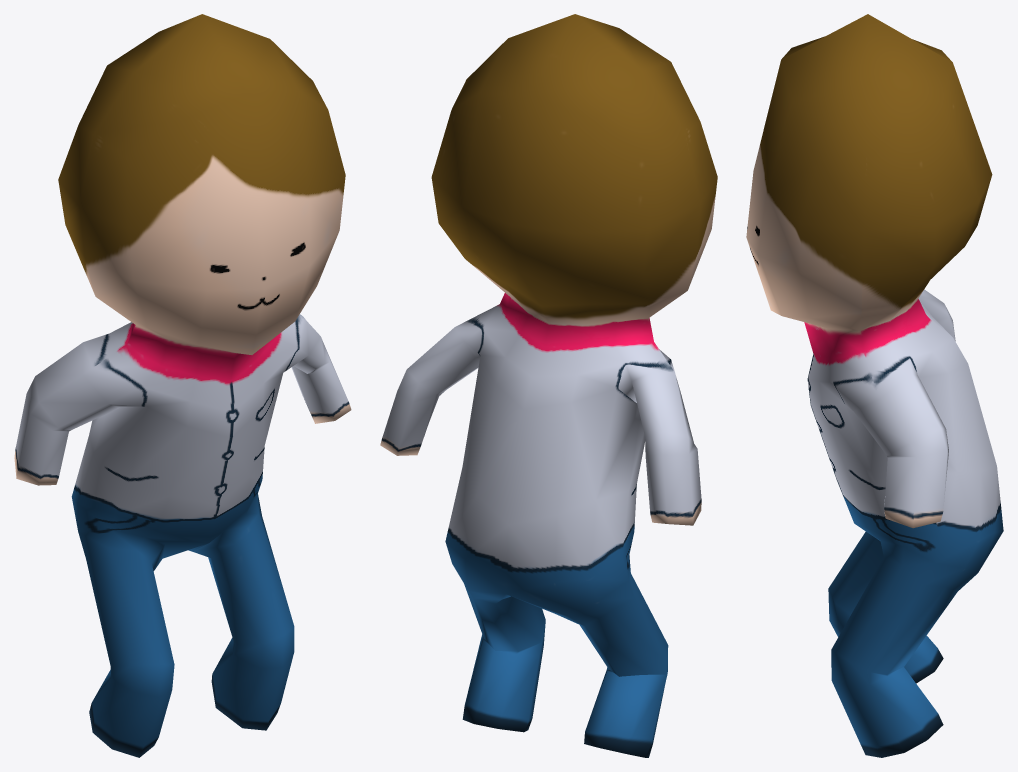
3 views of the same model, side by side, from view 1: azimuth 30°, elevation 25°; view 2: azimuth 150°, elevation 25°; view 3: azimuth 270°, elevation 25° (orthographic). The views are drawn at different scales.
Visible parts, largest first — view 1: Chara; view 2: Chara; view 3: Chara.
Part boxes in pixels (<box>): Chara: <box>14,14,351,757</box>; Chara: <box>380,14,717,757</box>; Chara: <box>746,14,1003,757</box>.
Size of the model in its own units: 0.7266 by 1.58 by 0.5191.
1 material, 1 textured.
